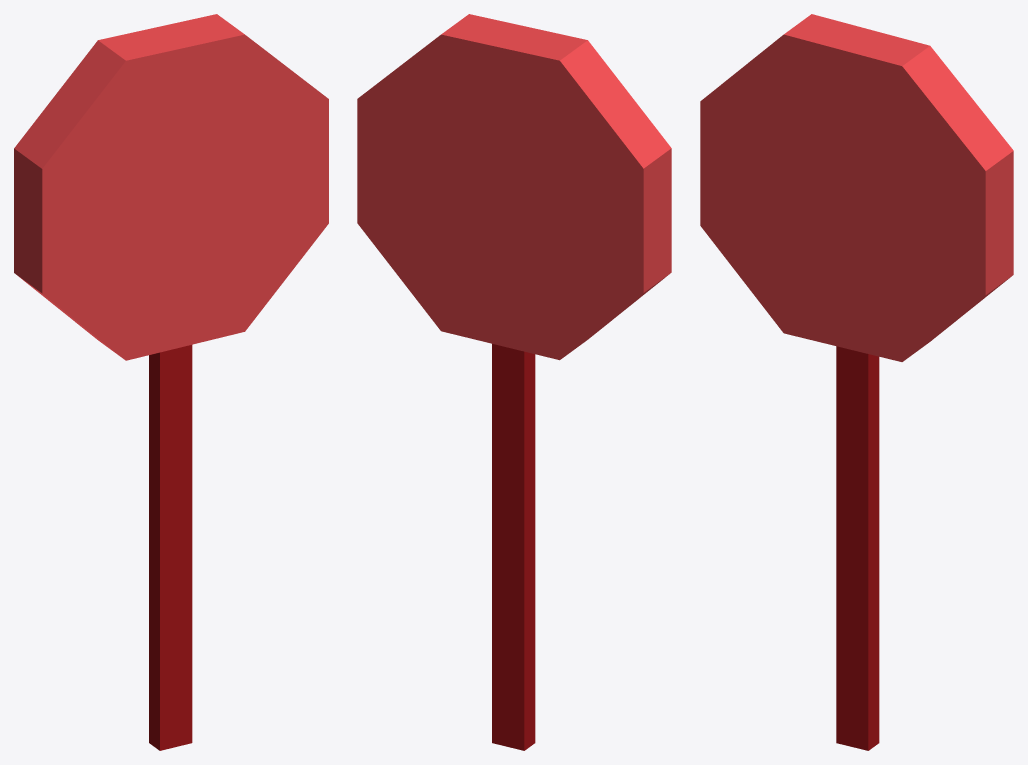
The picture shows the model from 3 angles, left to right: view 1: azimuth 30°, elevation 25°; view 2: azimuth 150°, elevation 25°; view 3: azimuth 330°, elevation 25°; orthographic projection.
Parts seen in each view (by area): view 1: ss3d_75_tron_disc; view 2: ss3d_75_tron_disc; view 3: ss3d_75_tron_disc.
Part boxes in pixels (<box>): ss3d_75_tron_disc: <box>14,14,328,750</box>; ss3d_75_tron_disc: <box>357,14,671,750</box>; ss3d_75_tron_disc: <box>700,14,1013,750</box>.
Bounding box in the file's own units: 0.8281 × 1.95 × 0.1406.
Materials: 1 (1 with a texture image).
